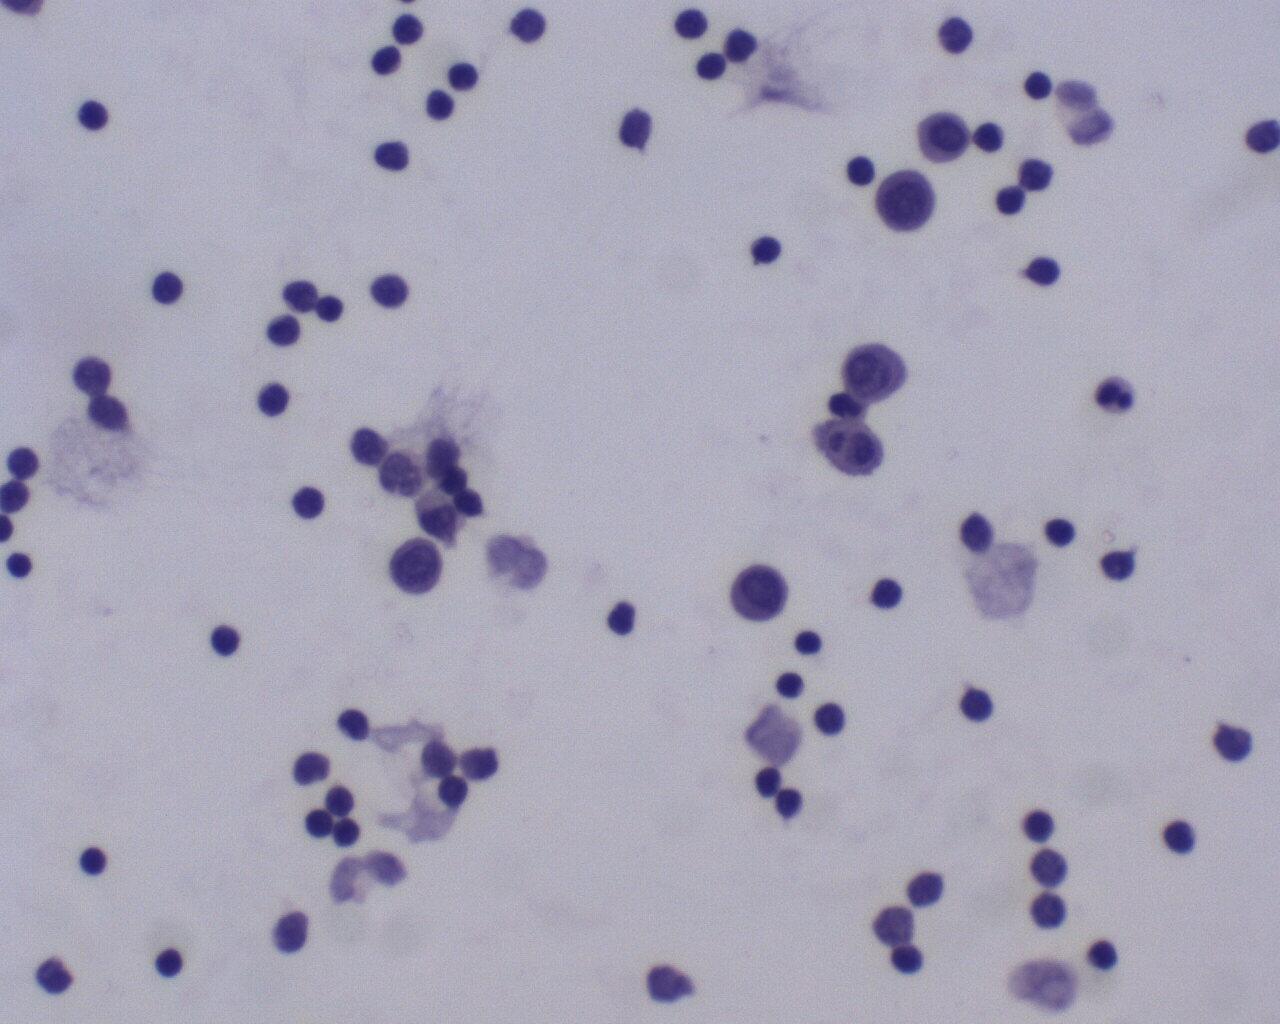ab: (837, 335, 910, 405), (874, 166, 935, 237), (388, 537, 449, 598), (912, 104, 970, 169), (729, 562, 791, 622)
lymph: (255, 372, 298, 425), (1011, 69, 1070, 106), (866, 567, 908, 616), (667, 3, 711, 47), (152, 942, 196, 985), (288, 478, 329, 523), (955, 682, 996, 727), (148, 263, 190, 306), (74, 93, 116, 136), (1018, 802, 1057, 845), (443, 60, 489, 95), (811, 701, 851, 742), (204, 620, 245, 659), (374, 136, 414, 174), (993, 178, 1027, 222), (371, 271, 409, 310), (751, 231, 788, 270), (1088, 935, 1123, 974), (1041, 516, 1080, 550), (772, 783, 806, 820), (436, 775, 471, 810), (77, 840, 109, 879), (774, 667, 808, 700)
neutro: (1093, 372, 1138, 416)
